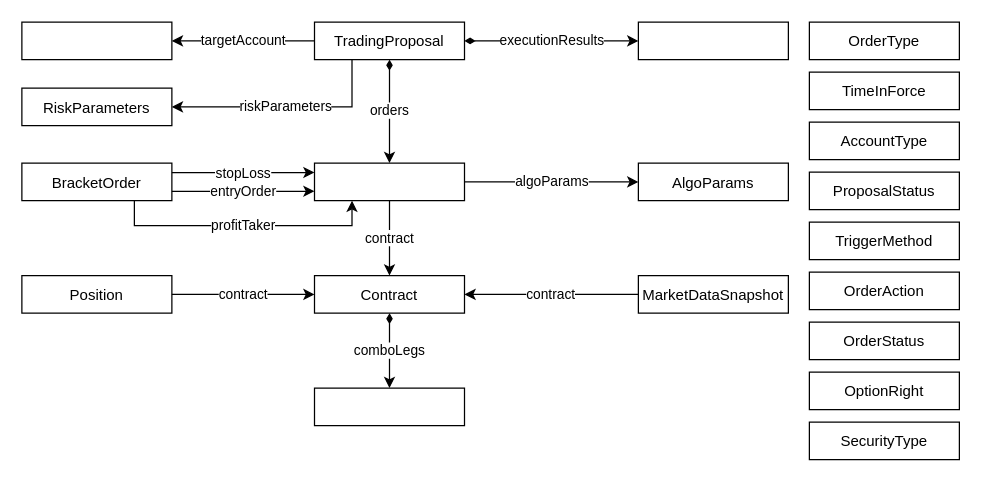
The diagram is 981 pixels wide and 481 high, and some of its shapes have lost their labels. The shapes that lost their labels are listed below. From the top down, each one's centre as x and y in pixels, then its label:
the point at 96,40: TradingAccount
the point at 712,40: ExecutionResult
the point at 388,181: Order
the point at 388,406: ComboLeg
